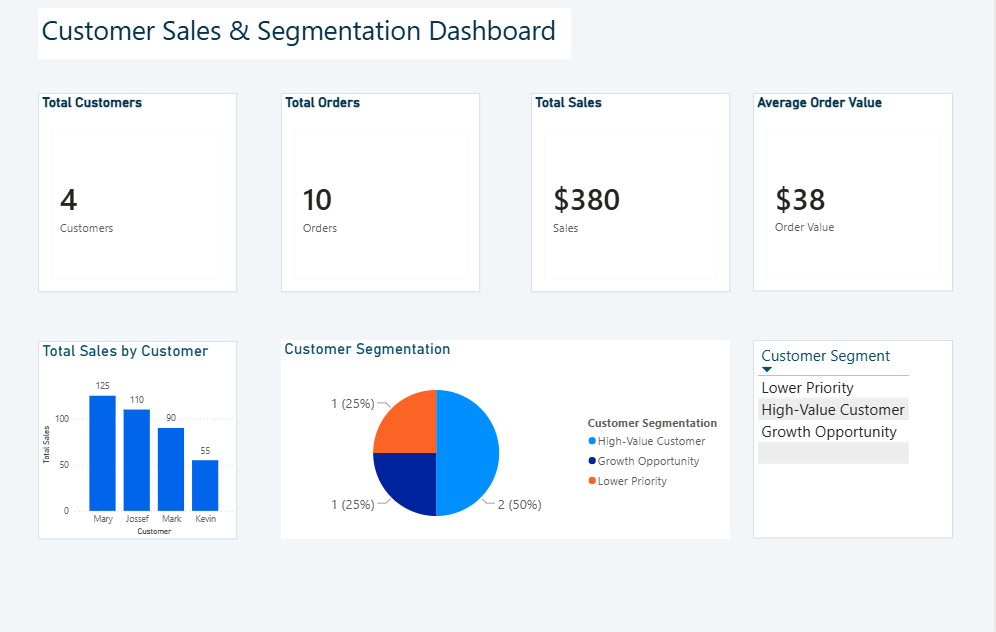

What the dashboard file says about the page in this screenshot:
{"tool":"powerbi","page":{"name":"Página 1","canvas":[1400,900],"ordinal":0},"visuals":[{"type":"cardVisual","title":"Total Sales","fields":{"Data":["Sum(Customer Analysis.TotalSales)"]},"box":[749.5,139.2,280,280],"z":0},{"type":"cardVisual","title":"Total Orders","fields":{"Data":["Sum(Customer Analysis.TotalOrders)"]},"box":[398,139.2,280,280],"z":1000},{"type":"cardVisual","title":"Average Order Value","fields":{"Data":["Customer Analysis.Ticket Promedio"]},"box":[1061.7,139.2,281,279.4],"z":2000},{"type":"cardVisual","title":"Total Customers","fields":{"Data":["CountNonNull(Customer Analysis.CustomerID)"]},"box":[56.2,139.2,280,280],"z":3000},{"type":"clusteredColumnChart","title":"Total Sales by Customer","fields":{"Category":["Customer Analysis.FirstName"],"Y":["Sum(Customer Analysis.TotalSales)"]},"box":[56.2,488,280.4,278.9],"z":4000},{"type":"tableEx","fields":{"Values":["Customer Analysis.CustomerSegment"]},"box":[1061.7,486.6,281,279.4],"z":5000},{"type":"textbox","box":[56.2,19.7,749.8,72.2],"z":6000},{"type":"pieChart","title":"Customer Segmentation","fields":{"Category":["Customer Analysis.CustomerSegment"],"Y":["CountNonNull(Customer Analysis.CustomerID)"]},"box":[398,486.6,631.4,279.8],"z":7000}]}

Visuals, with their boxes in screenshot pixels (x1, y1, x2, y2), scaled from the page's 1400x900 canvas onto the 996x632 screenshot:
"Total Sales" cardVisual: crop(533, 98, 732, 294)
"Total Orders" cardVisual: crop(283, 98, 482, 294)
"Average Order Value" cardVisual: crop(755, 98, 955, 294)
"Total Customers" cardVisual: crop(40, 98, 239, 294)
"Total Sales by Customer" clusteredColumnChart: crop(40, 343, 239, 539)
tableEx - Customer Analysis.CustomerSegment: crop(755, 342, 955, 538)
textbox: crop(40, 14, 573, 65)
"Customer Segmentation" pieChart: crop(283, 342, 732, 538)
